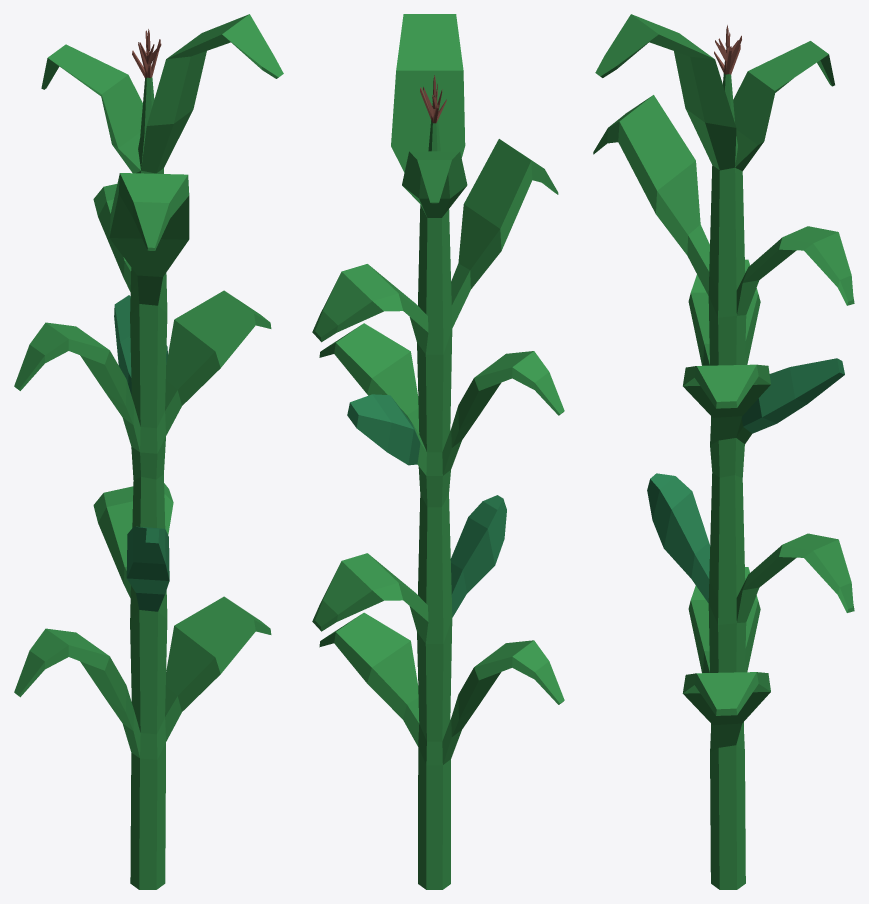
File: 4-corn.glb
The picture shows the model from 3 angles, left to right: view 1: azimuth 30°, elevation 25°; view 2: azimuth 150°, elevation 25°; view 3: azimuth 270°, elevation 25°; orthographic projection. The views are drawn at different scales.
Parts seen in each view (by area): view 1: corn; view 2: corn; view 3: corn.
Boxes of the visible parts, x1,y1,x2,y2 form: corn: (14,14,283,889); corn: (312,14,564,889); corn: (593,14,854,889).
Size of the model in its own units: 1.37 by 4.57 by 1.23.
